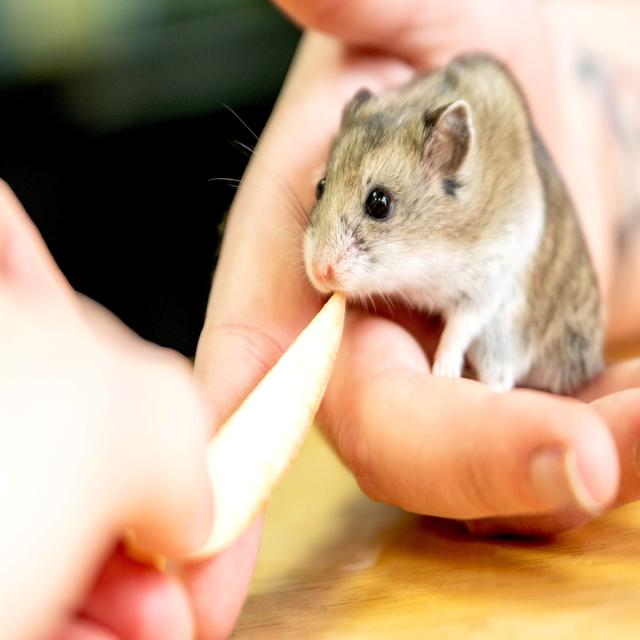hamster: (314, 83, 570, 430)
